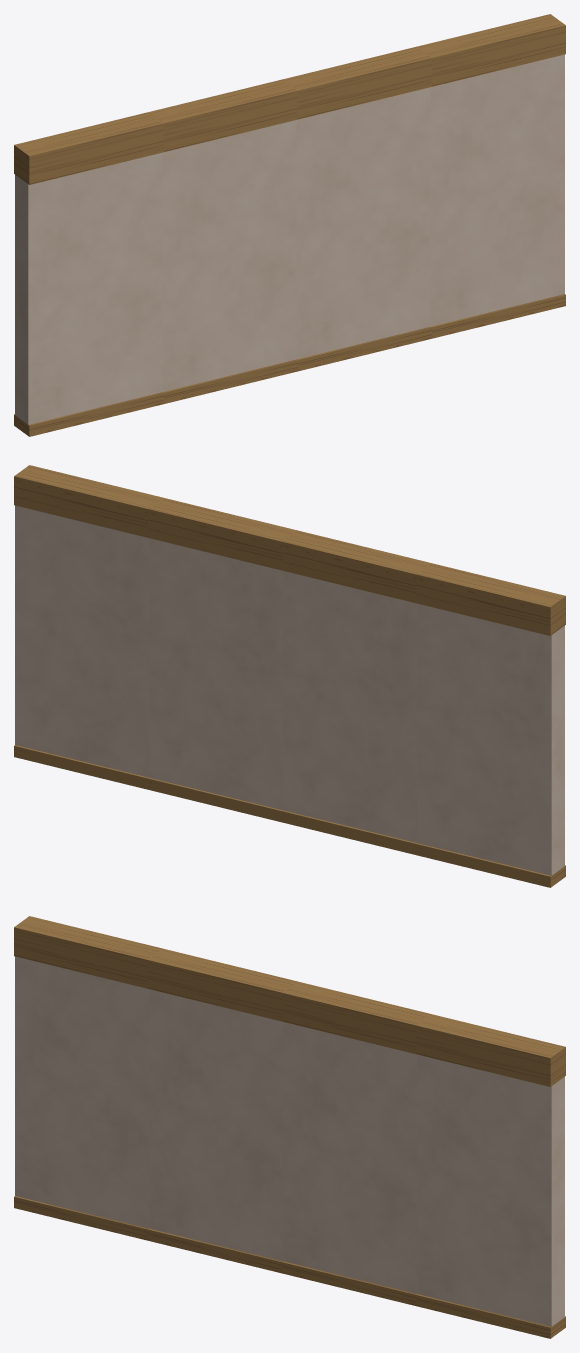
Rendered from wall_4.fbx.
The picture shows the model from 3 angles, top to bottom: view 1: azimuth 30°, elevation 25°; view 2: azimuth 150°, elevation 25°; view 3: azimuth 330°, elevation 25°; orthographic projection.
Visible parts, largest first — view 1: Cube.242; view 2: Cube.242; view 3: Cube.242.
Part boxes in pixels (x1=…): Cube.242: x1=14, y1=14, x2=565, y2=436; Cube.242: x1=14, y1=465, x2=565, y2=887; Cube.242: x1=14, y1=916, x2=565, y2=1338.
Bounding box in the file's own units: 400 × 200 × 20.
